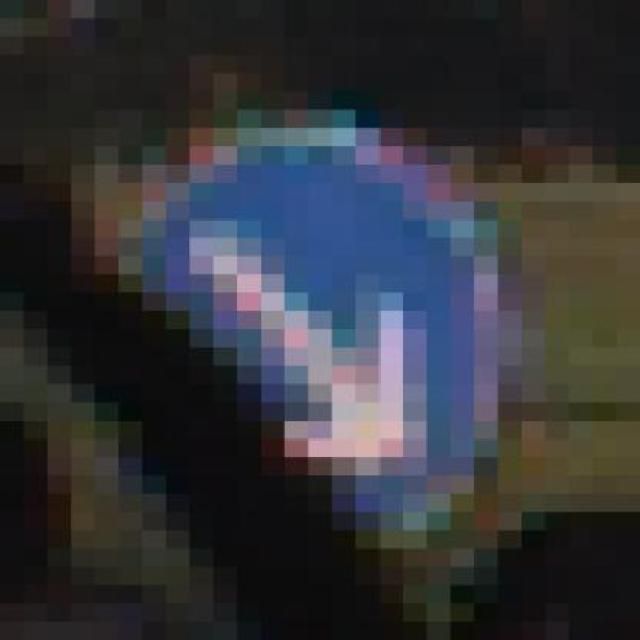Keep-Right: (95, 110, 522, 548)
